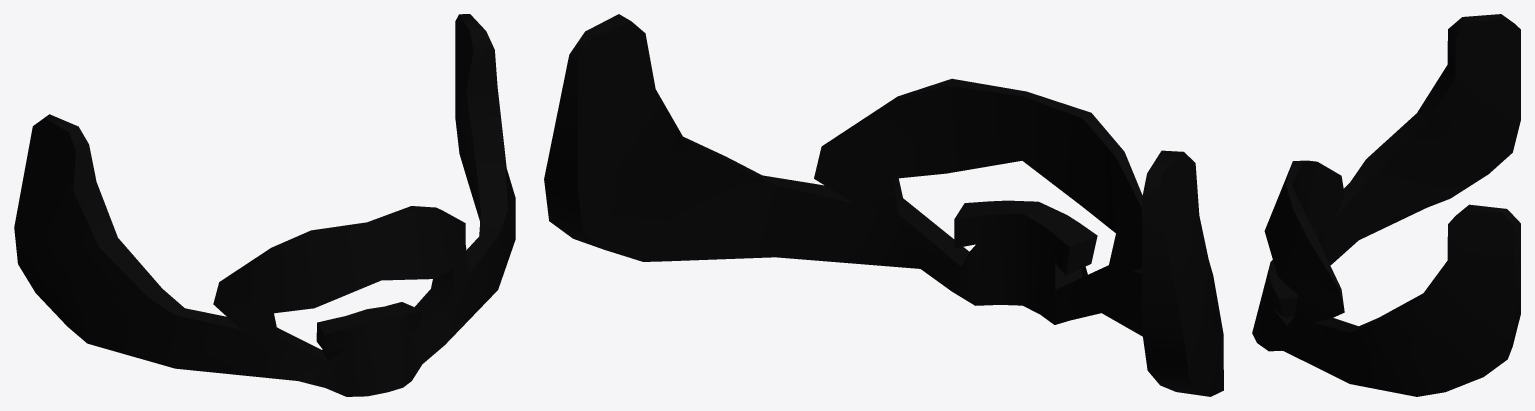
The model's file is Hair_21.fbx.
3 views of the same model, side by side, from view 1: azimuth 30°, elevation 25°; view 2: azimuth 150°, elevation 25°; view 3: azimuth 270°, elevation 25° (orthographic). The views are drawn at different scales.
Visible parts, largest first — view 1: Hair_21; view 2: Hair_21; view 3: Hair_21.
Part boxes in pixels (x1,y1,x2,y2): Hair_21: [14, 14, 515, 396]; Hair_21: [544, 14, 1223, 396]; Hair_21: [1252, 14, 1520, 396].
Bounding box in the file's own units: 113 × 53.7 × 58.63.
